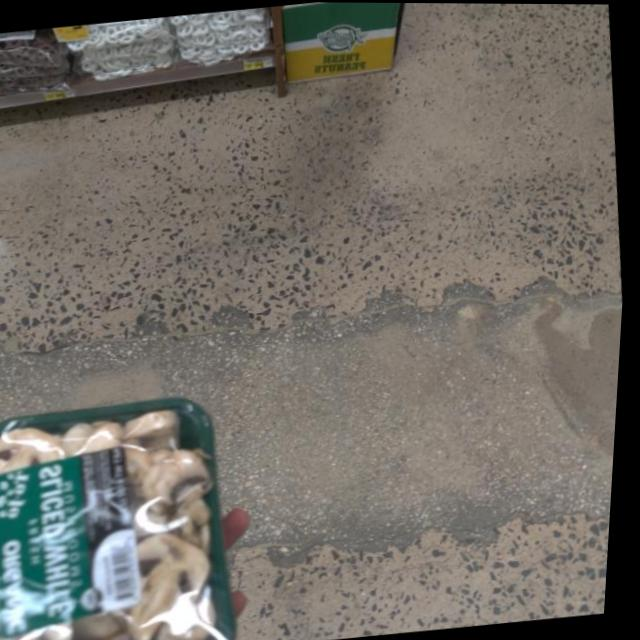Mushrooms: (0, 399, 242, 640)
